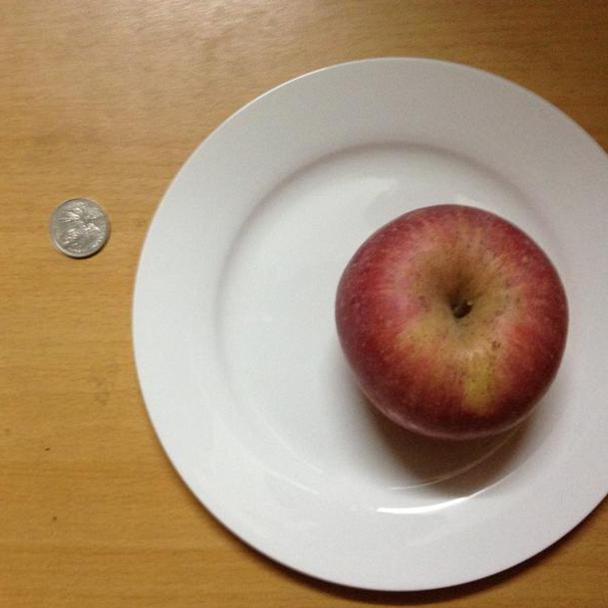apple: (334, 203, 573, 444)
